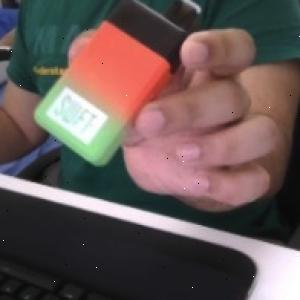Swift-E-Ciggirate: (34, 0, 209, 168)
